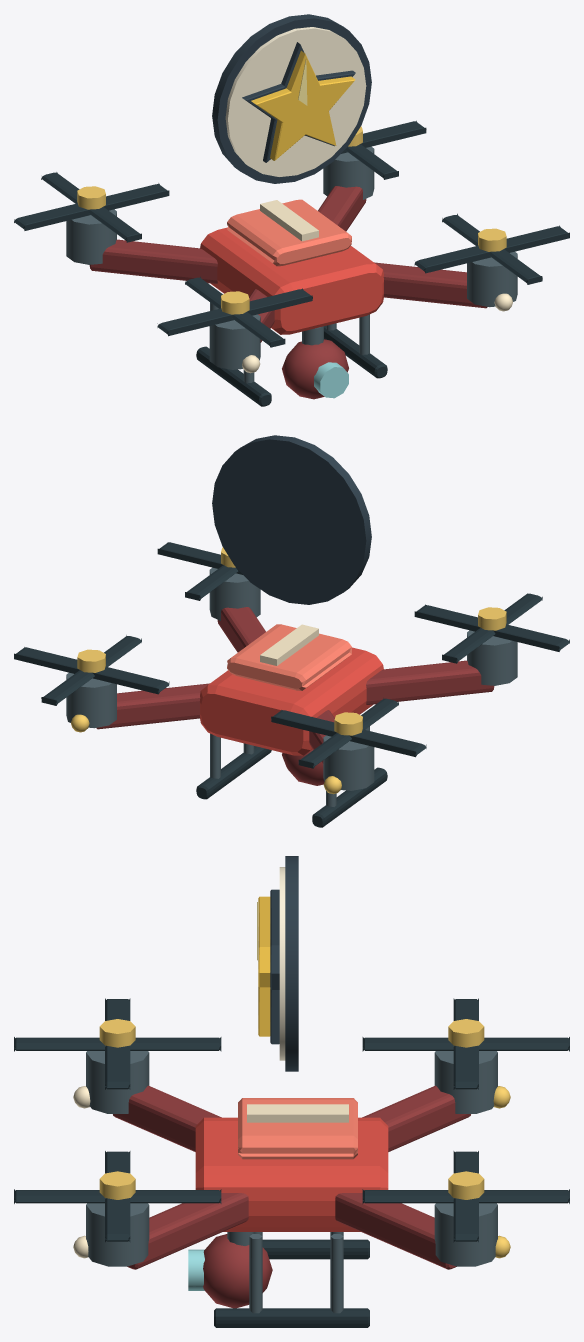
Rendered from drone.glb.
The picture shows the model from 3 angles, top to bottom: view 1: azimuth 30°, elevation 25°; view 2: azimuth 150°, elevation 25°; view 3: azimuth 270°, elevation 25°; orthographic projection. The views are drawn at different scales.
Visible parts, largest first — view 1: airframe-dark, team-badge-plate, airframe-team, airframe-metal, team-badge-outline, team-badge-gold, airframe-light, rotor--1--1-rubber, rotor-1-1-rubber, rotor--1-1-rubber, airframe-rubber, rotor-1--1-rubber (+5 smaller); view 2: team-badge-outline, airframe-team, airframe-dark, airframe-metal, airframe-light, rotor--1-1-rubber, rotor-1--1-rubber, rotor--1--1-rubber, airframe-rubber, rotor-1-1-rubber, airframe-cream, rotor--1--1-gold (+3 smaller); view 3: airframe-dark, airframe-metal, airframe-team, airframe-light, airframe-rubber, team-badge-outline, rotor-1--1-rubber, rotor-1-1-rubber, rotor--1--1-rubber, rotor--1-1-rubber, airframe-cream, team-badge-gold (+7 smaller).
Boxes of the visible parts, left/top/right/bottom form: airframe-dark: left=89, top=186, right=487, bottom=399; team-badge-plate: left=225, top=27, right=366, bottom=176; airframe-team: left=200, top=227, right=383, bottom=334; airframe-metal: left=66, top=146, right=517, bottom=383; team-badge-outline: left=212, top=14, right=371, bottom=183; team-badge-gold: left=251, top=50, right=355, bottom=160; airframe-light: left=227, top=199, right=351, bottom=266; rotor--1--1-rubber: left=14, top=172, right=169, bottom=242; rotor-1-1-rubber: left=414, top=213, right=569, bottom=284; rotor--1-1-rubber: left=157, top=276, right=312, bottom=347; airframe-rubber: left=196, top=326, right=387, bottom=406; rotor-1--1-rubber: left=341, top=120, right=426, bottom=179; team-badge-outline: left=212, top=435, right=371, bottom=604; airframe-team: left=200, top=647, right=383, bottom=755; airframe-dark: left=96, top=607, right=494, bottom=785; airframe-metal: left=66, top=567, right=517, bottom=806; airframe-light: left=227, top=624, right=351, bottom=690; rotor--1-1-rubber: left=414, top=593, right=569, bottom=663; rotor-1--1-rubber: left=14, top=635, right=169, bottom=705; rotor--1--1-rubber: left=271, top=698, right=426, bottom=768; airframe-rubber: left=196, top=746, right=387, bottom=827; rotor-1-1-rubber: left=157, top=542, right=242, bottom=600; airframe-cream: left=260, top=624, right=318, bottom=665; rotor--1--1-gold: left=334, top=712, right=362, bottom=735; airframe-dark: left=113, top=1085, right=470, bottom=1308; airframe-metal: left=86, top=1051, right=497, bottom=1313; airframe-team: left=195, top=1117, right=388, bottom=1231; airframe-light: left=238, top=1098, right=357, bottom=1159; airframe-rubber: left=214, top=1239, right=369, bottom=1327; team-badge-outline: left=270, top=856, right=298, bottom=1071; rotor-1--1-rubber: left=362, top=1151, right=569, bottom=1242; rotor-1-1-rubber: left=14, top=1151, right=221, bottom=1242; rotor--1--1-rubber: left=362, top=998, right=569, bottom=1089; rotor--1-1-rubber: left=14, top=998, right=221, bottom=1089; airframe-cream: left=73, top=1086, right=348, bottom=1258; team-badge-gold: left=258, top=896, right=270, bottom=1036.
Bounding box in the file's own units: 1.88 × 1.61 × 1.85.
